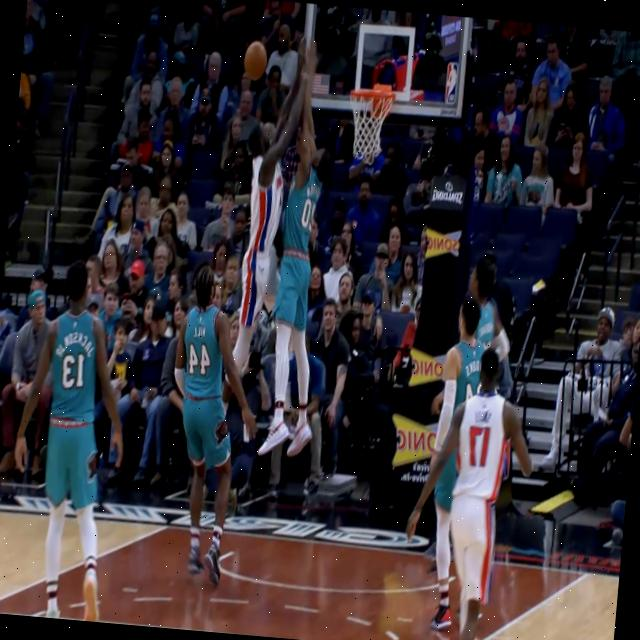foul: (224, 28, 333, 454)
no foul: (402, 265, 523, 640), (160, 265, 256, 587), (434, 348, 531, 640)
